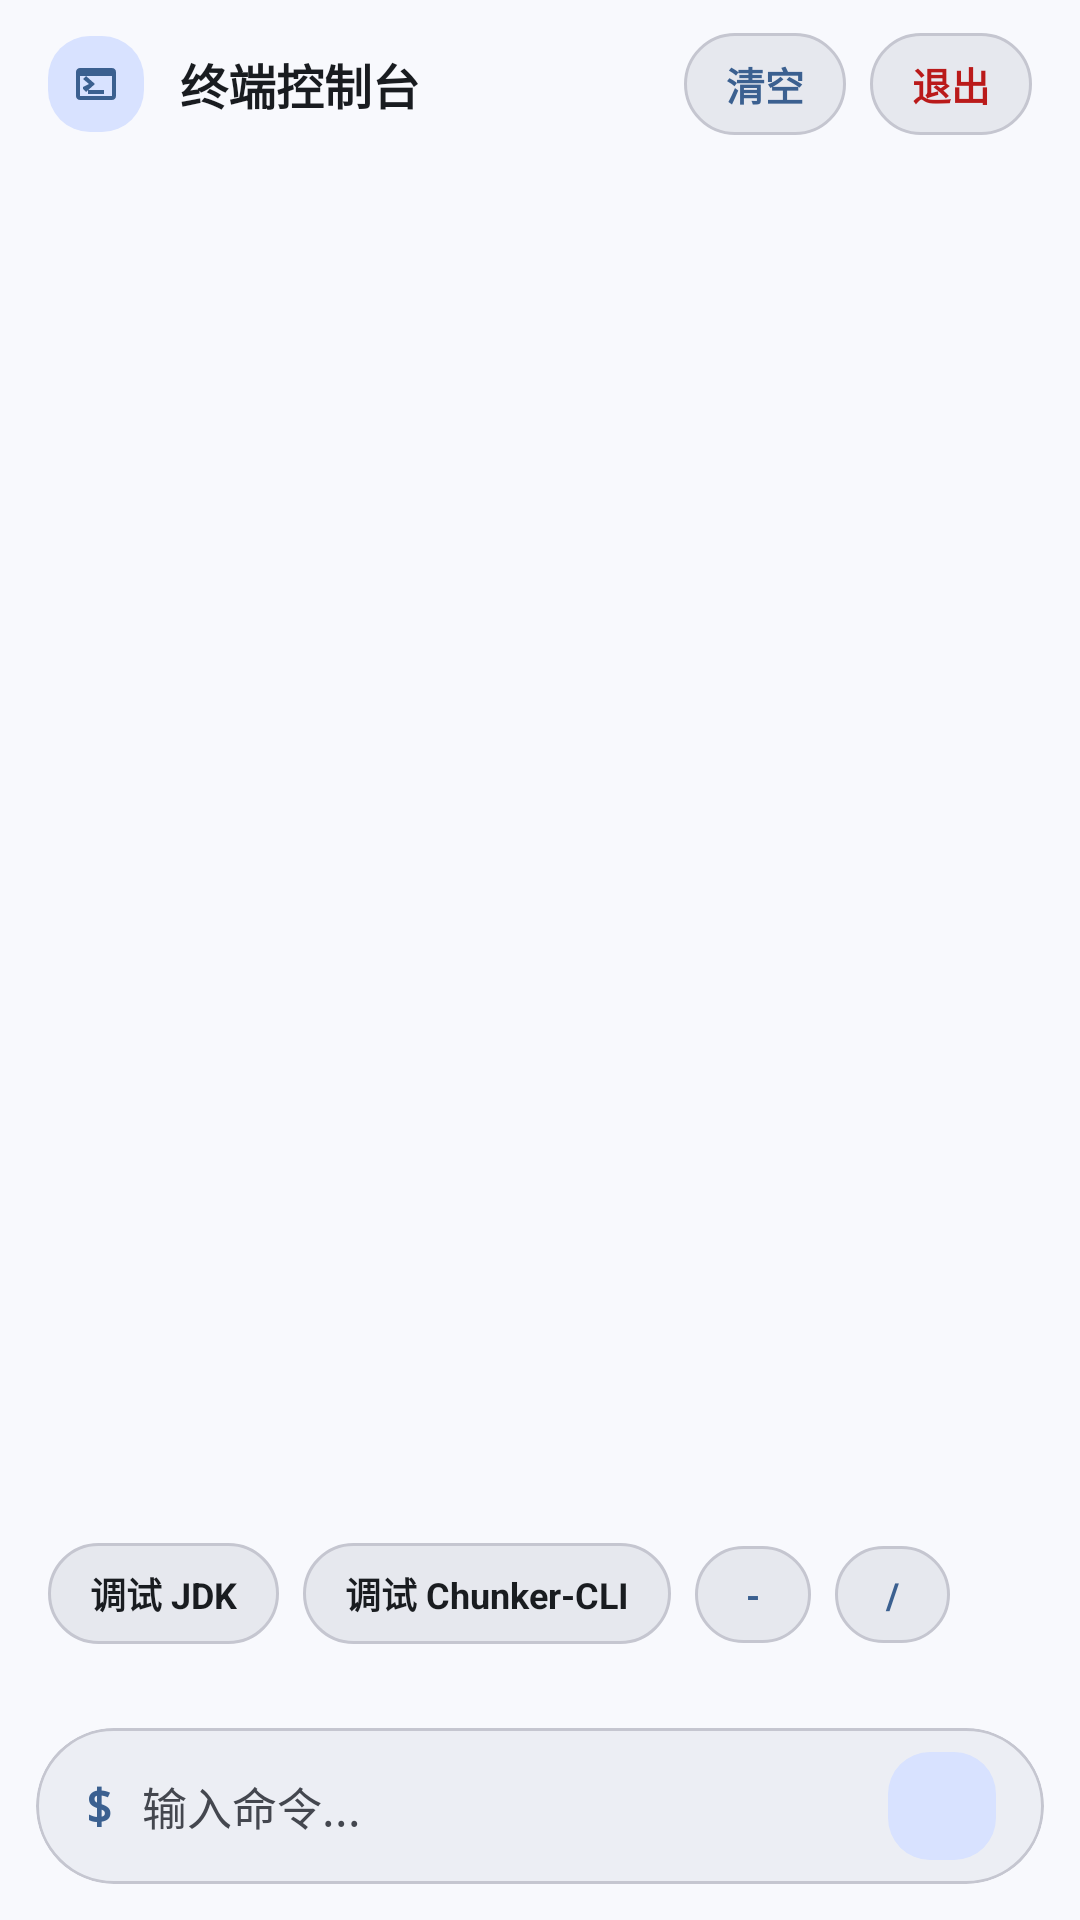

Where icons sit on this 1080 × 1920 app screen, as box=[x1, y1, x2, y2]:
terminal: box=[76, 68, 116, 100]
